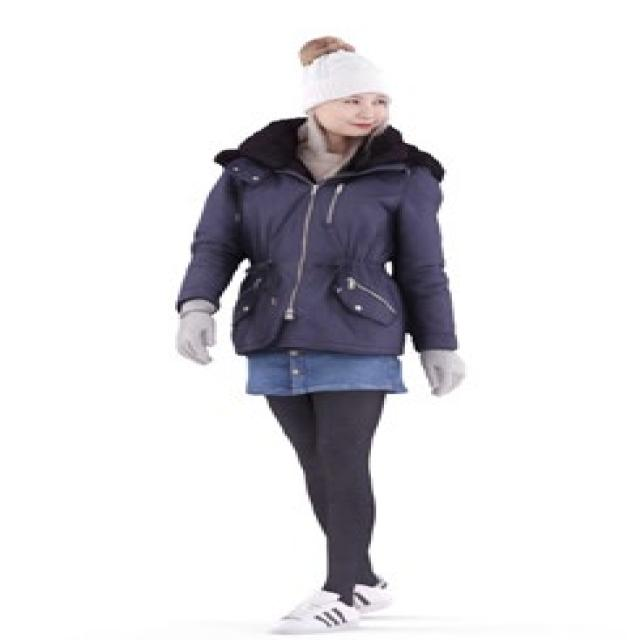standing: (167, 35, 470, 640)
